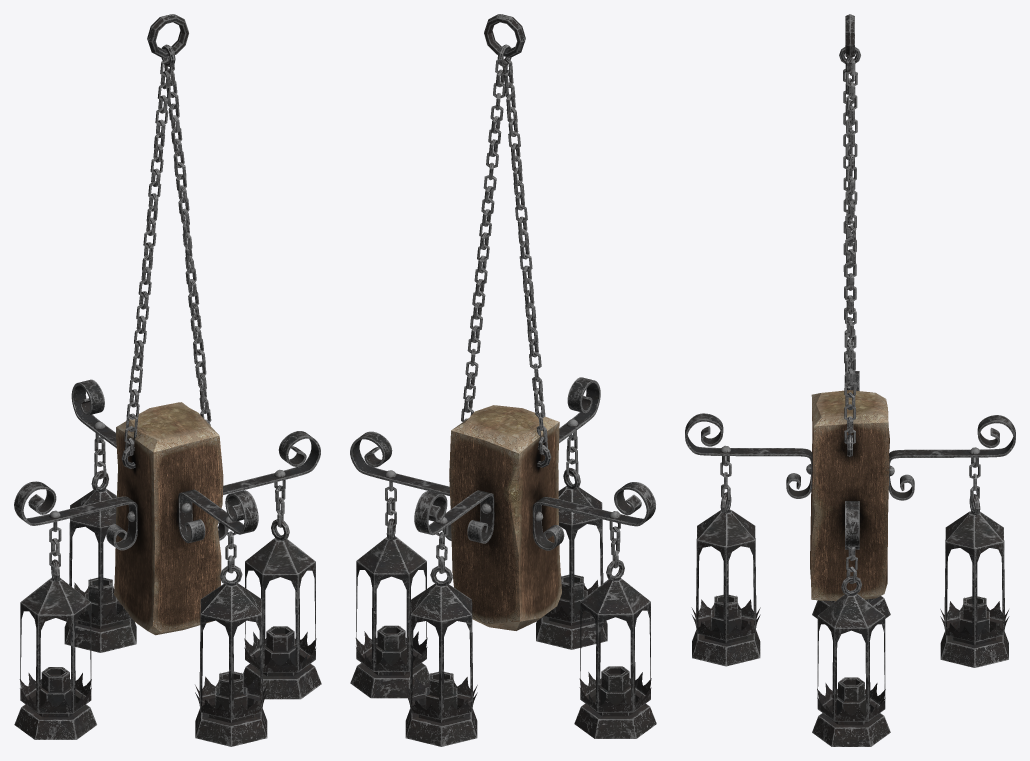
3 views of the same model, side by side, from view 1: azimuth 30°, elevation 25°; view 2: azimuth 150°, elevation 25°; view 3: azimuth 270°, elevation 25° (orthographic). The views are drawn at different scales.
Visible parts, largest first — view 1: Lantern B Wood base, Lantern B 3, Lantern B 4, Lantern B 1, Lantern B chain, Lantern B 2; view 2: Lantern B Wood base, Lantern B 3, Lantern B 2, Lantern B 1, Lantern B chain, Lantern B 4; view 3: Lantern B Wood base, Lantern B 4, Lantern B 2, Lantern B 1, Lantern B chain, Lantern B 3.
Part boxes in pixels (left/top/right/bottom): Lantern B Wood base: left=114, top=402, right=223, bottom=635; Lantern B 3: left=14, top=481, right=137, bottom=739; Lantern B 4: left=178, top=489, right=267, bottom=746; Lantern B 1: left=217, top=431, right=321, bottom=699; Lantern B chain: left=121, top=14, right=211, bottom=468; Lantern B 2: left=64, top=379, right=136, bottom=652; Lantern B Wood base: left=449, top=405, right=561, bottom=630; Lantern B 3: left=532, top=482, right=656, bottom=738; Lantern B 2: left=405, top=490, right=494, bottom=746; Lantern B 1: left=350, top=431, right=451, bottom=698; Lantern B chain: left=461, top=14, right=551, bottom=467; Lantern B 4: left=536, top=377, right=607, bottom=649; Lantern B Wood base: left=810, top=390, right=889, bottom=601; Lantern B 4: left=685, top=413, right=812, bottom=666; Lantern B 2: left=888, top=415, right=1015, bottom=667; Lantern B 1: left=812, top=501, right=890, bottom=746; Lantern B chain: left=839, top=14, right=860, bottom=456; Lantern B 3: left=812, top=371, right=890, bottom=625.
Bounding box in the file's own units: 0.6469 × 1.44 × 0.6504.
Materials: 3 (3 with a texture image).
